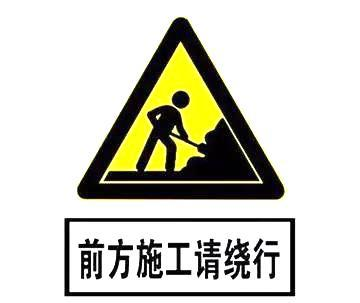sign: (60, 10, 304, 298)
